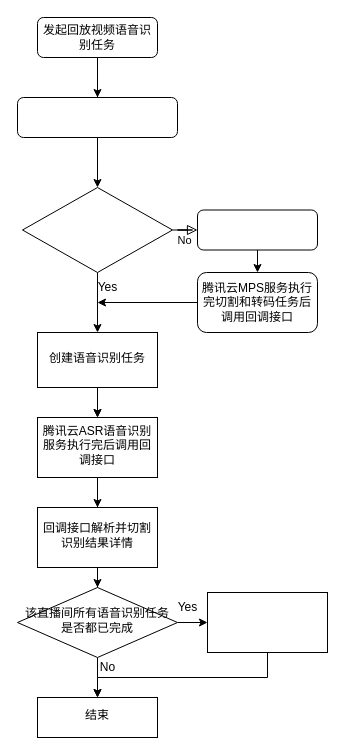
Some shapes in this 345 by 755 pixel diagram are drawn without their labels. The shapes that lost their labels are listed below. From the top down, each one's centre as x and y in pixels, then its label:
At point (97, 117): "通过媒体元数据接口DescribeMediaMetaData查询媒体元数据".
At point (97, 229): "回放视频是mp4格式且长度小于5小时吗".
At point (257, 229): "按5小时切割并创建媒体编辑任务".
At point (267, 622): "更新直播间任务状态".
